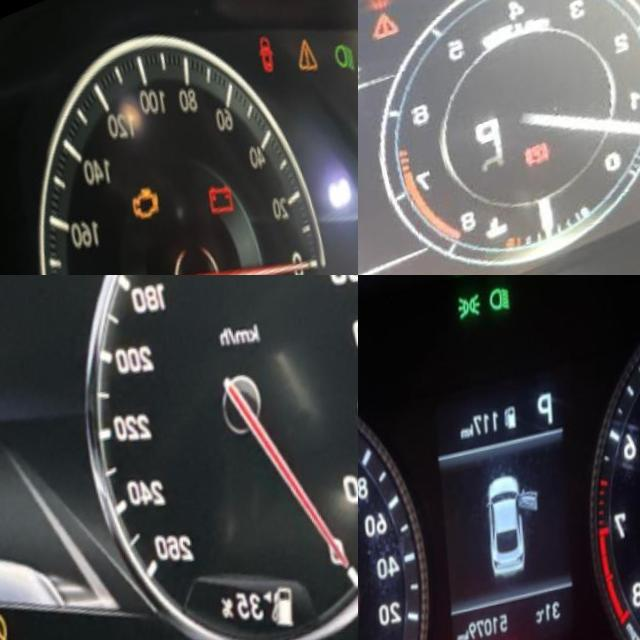Central Warning lamp: (287, 43, 323, 95)
Doors: (248, 35, 284, 96)
Engine cooling system: (481, 227, 511, 263)
Low beam: (328, 46, 358, 93), (486, 292, 515, 333)
